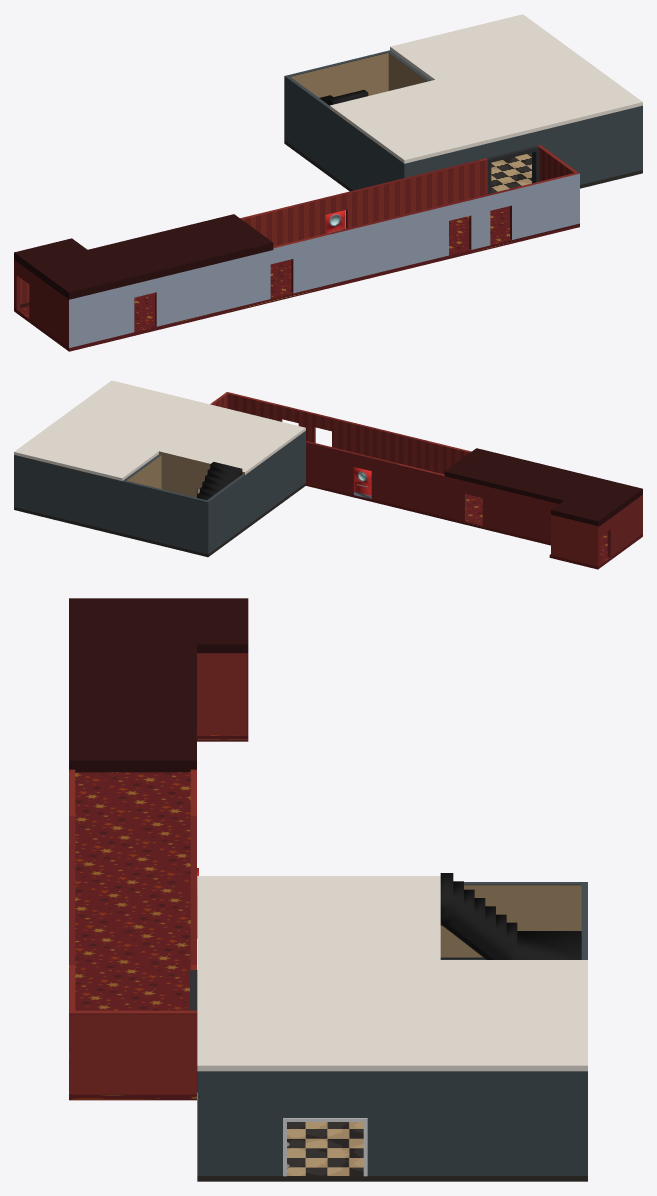
The model's file is primerPiso.fbx.
3 renders of one model, top to bottom at view 1: azimuth 30°, elevation 25°; view 2: azimuth 150°, elevation 25°; view 3: azimuth 270°, elevation 25°, orthographic. The views are drawn at different scales.
Parts seen in each view (by area): view 1: pasilloInfParedes, lobbyTecho, lobbyParedes, pasilloInfTechoEsquina, pasilloInfSuelo, pasilloInfTecho, lobbySuelo, lobbyParedInt, marcoDobleEntrada; view 2: pasilloInfParedes, lobbyTecho, lobbyParedes, pasilloInfTechoEsquina, pasilloInfTecho, lobbyParedInt, pasilloInfSuelo, lobbySuelo, escaleras, puerta; view 3: lobbyTecho, lobbyParedes, pasilloInfSuelo, pasilloInfParedes, pasilloInfTechoEsquina, pasilloInfTecho, lobbySuelo, escaleras, marcoDoble.
Part boxes in pixels (x1=…): pasilloInfParedes: x1=14, y1=145, x2=579, y2=347; lobbyTecho: x1=329, y1=14, x2=642, y2=163; lobbyParedes: x1=284, y1=50, x2=642, y2=190; pasilloInfTechoEsquina: x1=14, y1=238, x2=171, y2=299; pasilloInfSuelo: x1=14, y1=206, x2=579, y2=351; pasilloInfTecho: x1=132, y1=214, x2=273, y2=274; lobbySuelo: x1=284, y1=140, x2=642, y2=193; lobbyParedInt: x1=388, y1=51, x2=430, y2=90; marcoDobleEntrada: x1=486, y1=146, x2=539, y2=193; pasilloInfParedes: x1=210, y1=392, x2=642, y2=566; lobbyTecho: x1=14, y1=380, x2=305, y2=480; lobbyParedes: x1=14, y1=431, x2=305, y2=554; pasilloInfTechoEsquina: x1=527, y1=468, x2=642, y2=526; pasilloInfTecho: x1=444, y1=448, x2=559, y2=496; lobbyParedInt: x1=124, y1=454, x2=210, y2=497; pasilloInfSuelo: x1=306, y1=467, x2=642, y2=569; lobbySuelo: x1=14, y1=483, x2=305, y2=557; escaleras: x1=197, y1=462, x2=242, y2=500; puerta: x1=354, y1=467, x2=371, y2=498; lobbyTecho: x1=197, y1=876, x2=587, y2=1071; lobbyParedes: x1=197, y1=882, x2=587, y2=1175; pasilloInfSuelo: x1=69, y1=734, x2=248, y2=1100; pasilloInfParedes: x1=69, y1=653, x2=248, y2=1094; pasilloInfTechoEsquina: x1=69, y1=598, x2=248, y2=679; pasilloInfTecho: x1=69, y1=679, x2=196, y2=772; lobbySuelo: x1=197, y1=1122, x2=587, y2=1181; escaleras: x1=440, y1=873, x2=581, y2=959; marcoDoble: x1=283, y1=1118, x2=367, y2=1176.
Size of the model in its own units: 18020 by 2100 by 8100.
